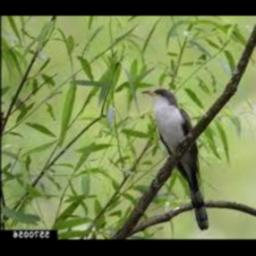Cuckoo: (143, 88, 210, 231)
